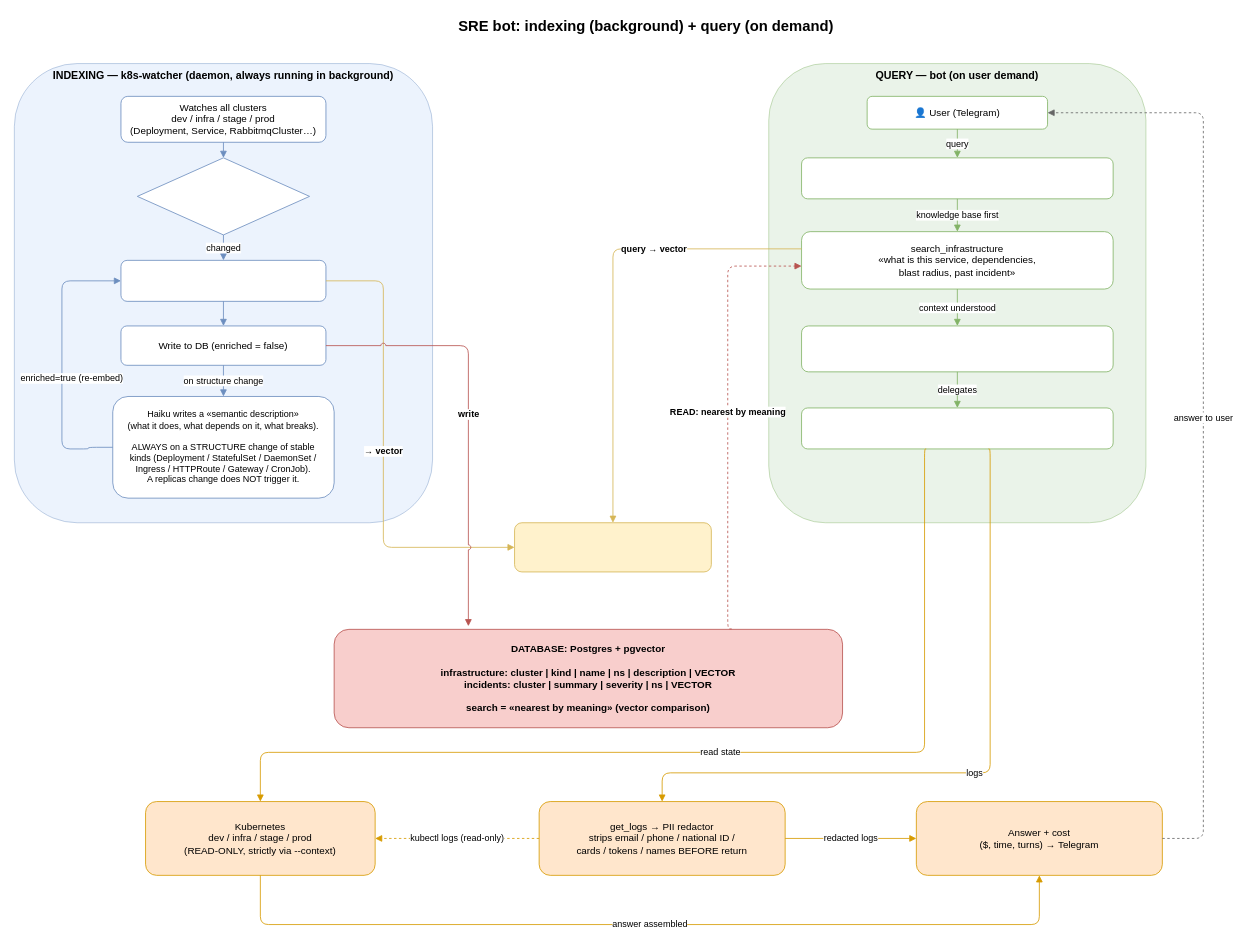
Image size: 1259x945. Some labels were removed from this diagram. Each missing label, with the centre of its shape:
"EMBED the spec → vector (via embeddings-api)" goes at point (223, 280).
"EMBEDDINGS-API (shared) text → vector (384 numbers)" goes at point (612, 547).
"Main agent «dispatcher» (Haiku) decides what to do" goes at point (957, 178).
"Resource changed? (spec hash comparison)" goes at point (223, 196).
"Routing → matching skill: pod / node check / alert triage" goes at point (957, 348).
"Subagents: Haiku (simple) / Sonnet (deep dive)" goes at point (957, 428).
